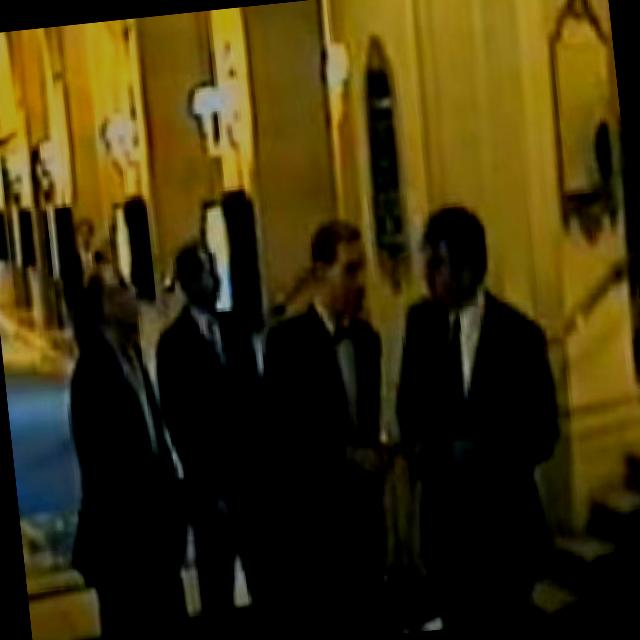Person: (378, 186, 586, 628), (240, 219, 418, 640), (33, 261, 177, 640), (149, 239, 271, 640)
